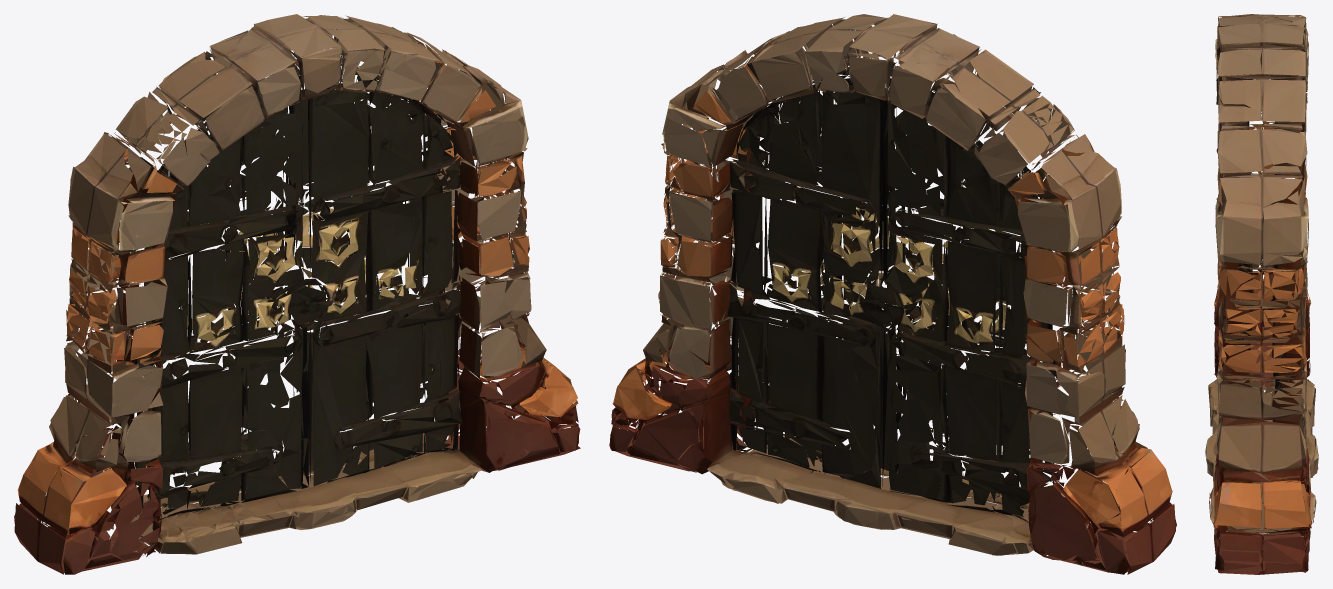
Rendered from door-arcane.glb.
3 views of the same model, side by side, from view 1: azimuth 30°, elevation 25°; view 2: azimuth 150°, elevation 25°; view 3: azimuth 270°, elevation 25° (orthographic). The views are drawn at different scales.
Parts seen in each view (by area): view 1: material; view 2: material; view 3: material.
Boxes of the visible parts, x1,y1,x2,y2 form: material: (14,14,580,574); material: (609,14,1176,574); material: (1205,14,1318,574).
Bounding box in the file's own units: 1.07 × 0.92 × 0.2181.
1 material, 1 textured.
